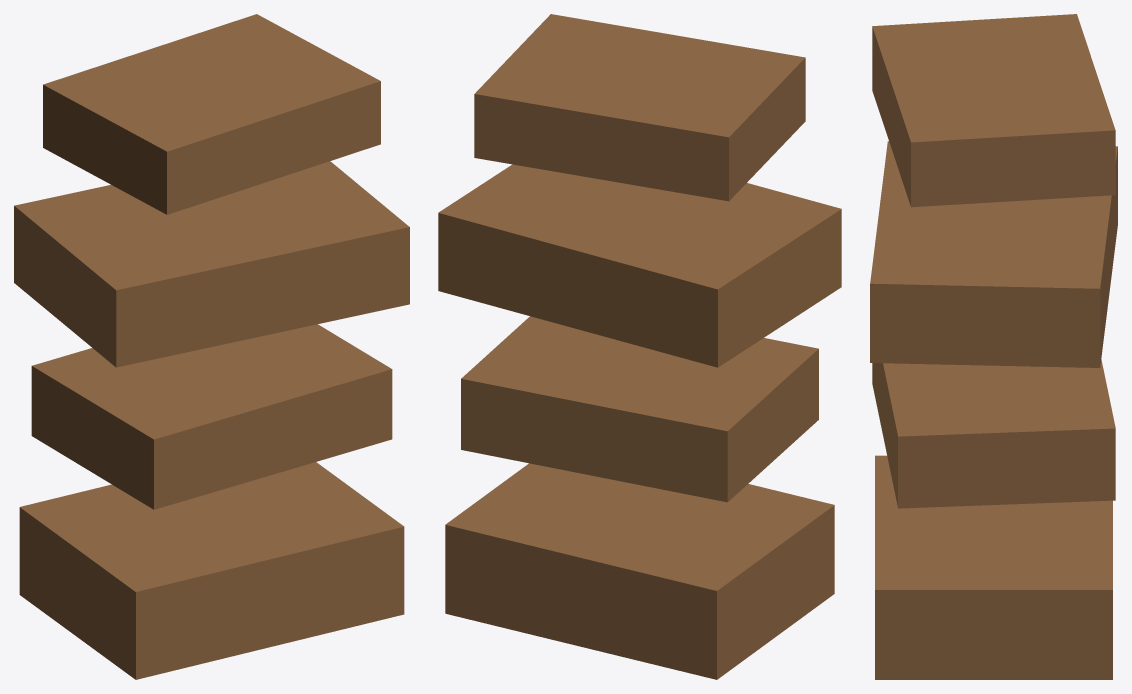
File: book_stack.glb
3 views of the same model, side by side, from view 1: azimuth 30°, elevation 25°; view 2: azimuth 150°, elevation 25°; view 3: azimuth 270°, elevation 25° (orthographic). The views are drawn at different scales.
Visible parts, largest first — view 1: book_stack; view 2: book_stack; view 3: book_stack.
Part boxes in pixels (box(x1,y1,x2,y2)): book_stack: box(14, 14, 409, 679); book_stack: box(438, 14, 841, 679); book_stack: box(870, 14, 1117, 679).
Size of the model in its own units: 0.044 by 0.0742 by 0.0312.
